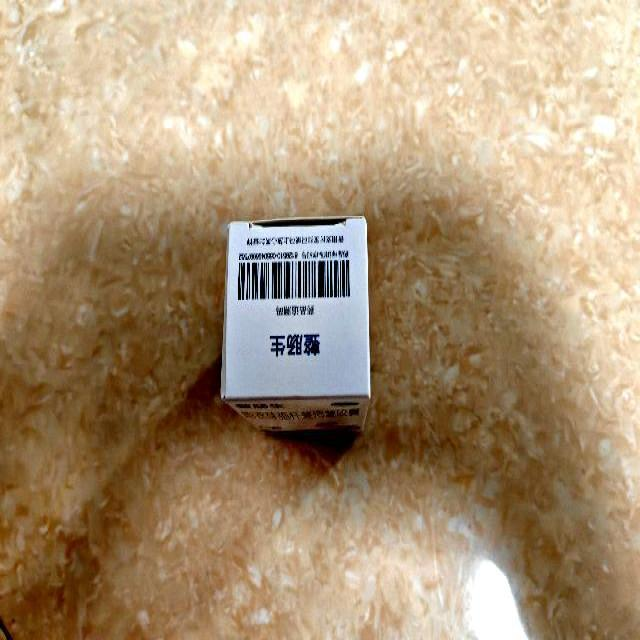box: (223, 215, 371, 438)
